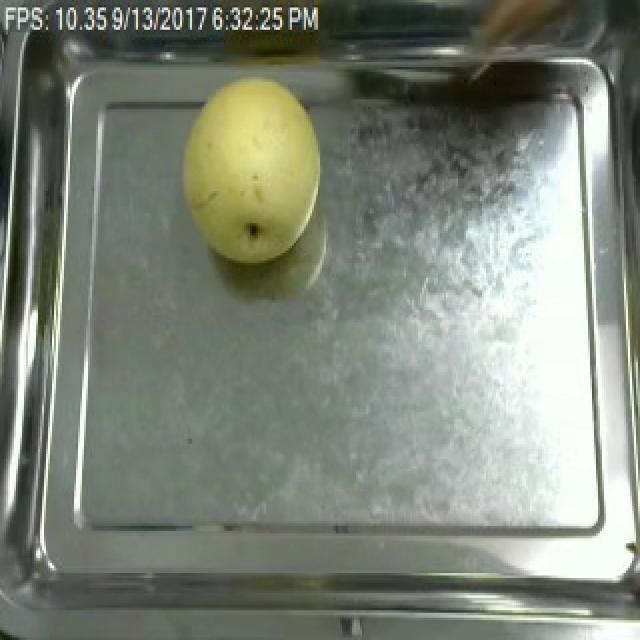Fruit: (172, 67, 330, 273)
